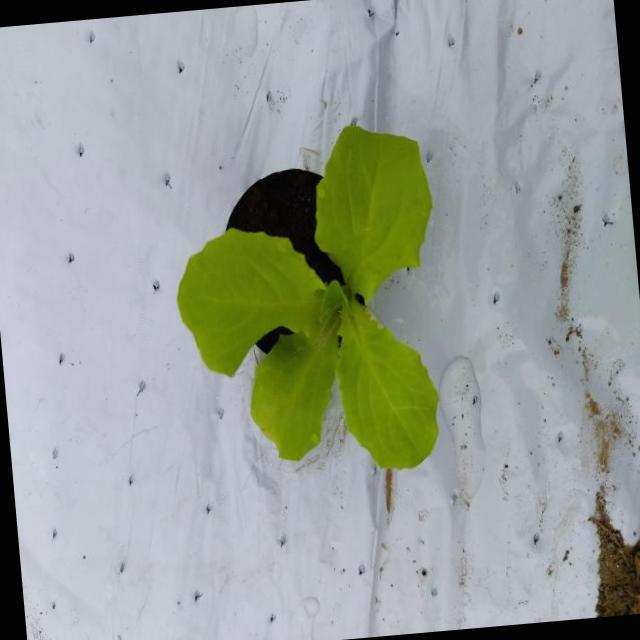Lettuce-Not-Ready-to-Harvest: (178, 126, 437, 468)
